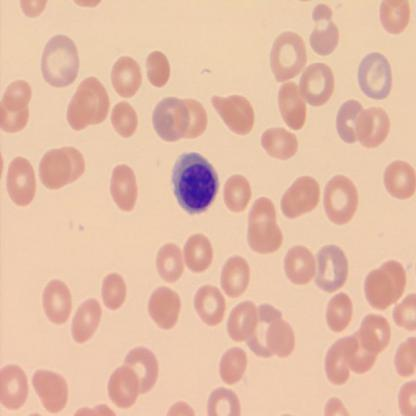NRC: (170, 150, 221, 216)
